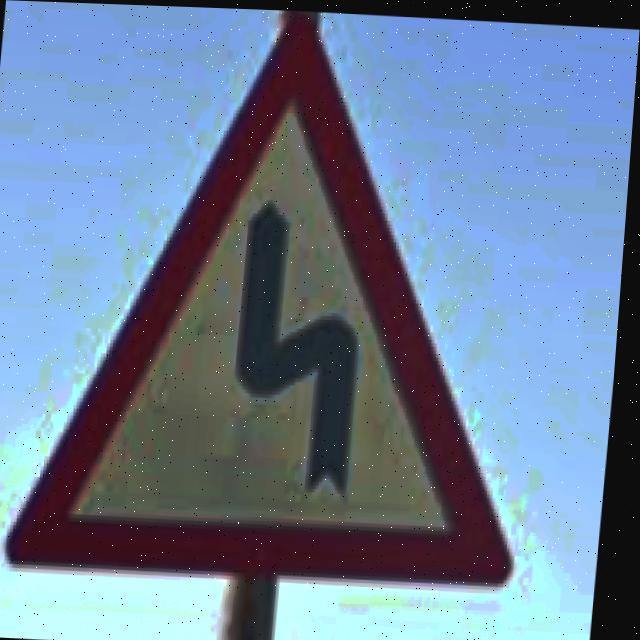doublebendleft: (16, 9, 517, 579)
